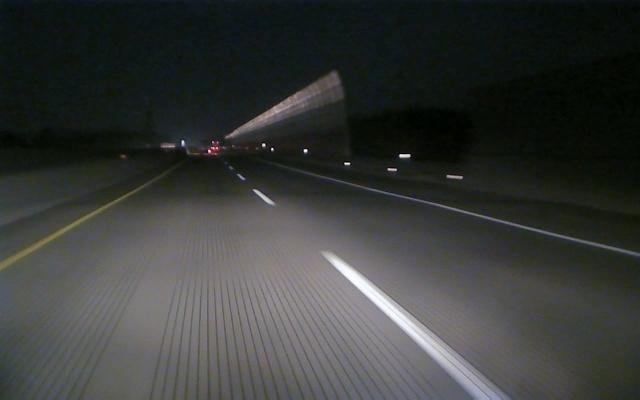lane: (251, 188, 510, 397), (350, 182, 640, 257), (1, 195, 127, 270)
